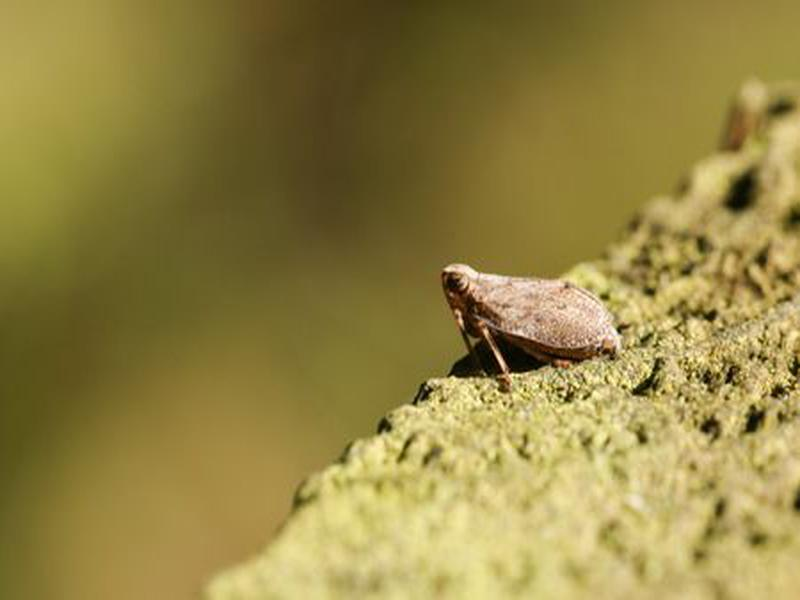Brown_plant_leafhopper: (424, 245, 652, 392)
